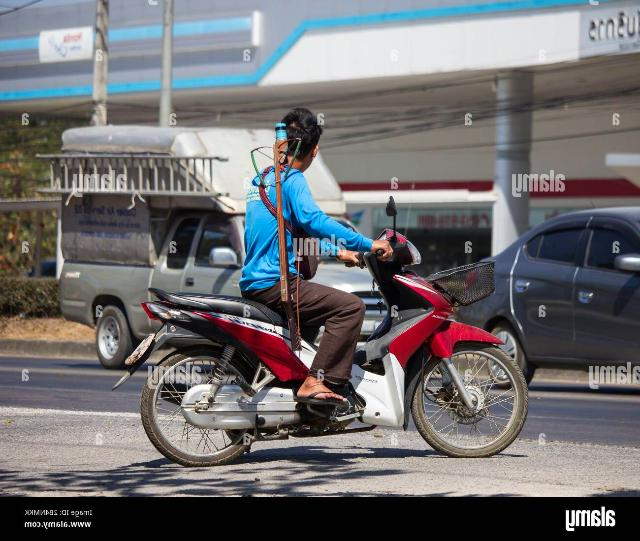motor: (112, 193, 529, 468)
non-helm: (277, 108, 324, 173)
